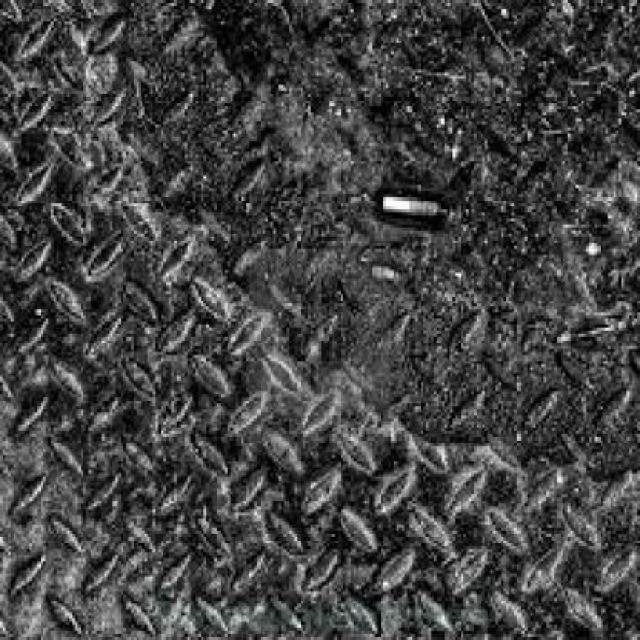cigarette: (370, 182, 452, 218)
